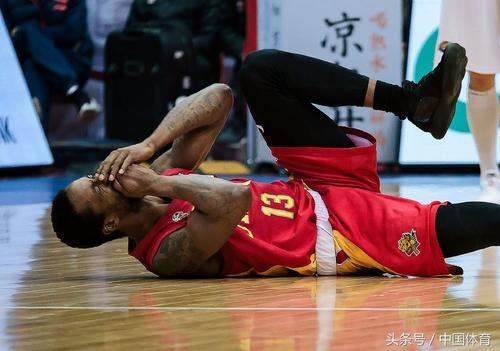falling: (38, 32, 500, 284)
